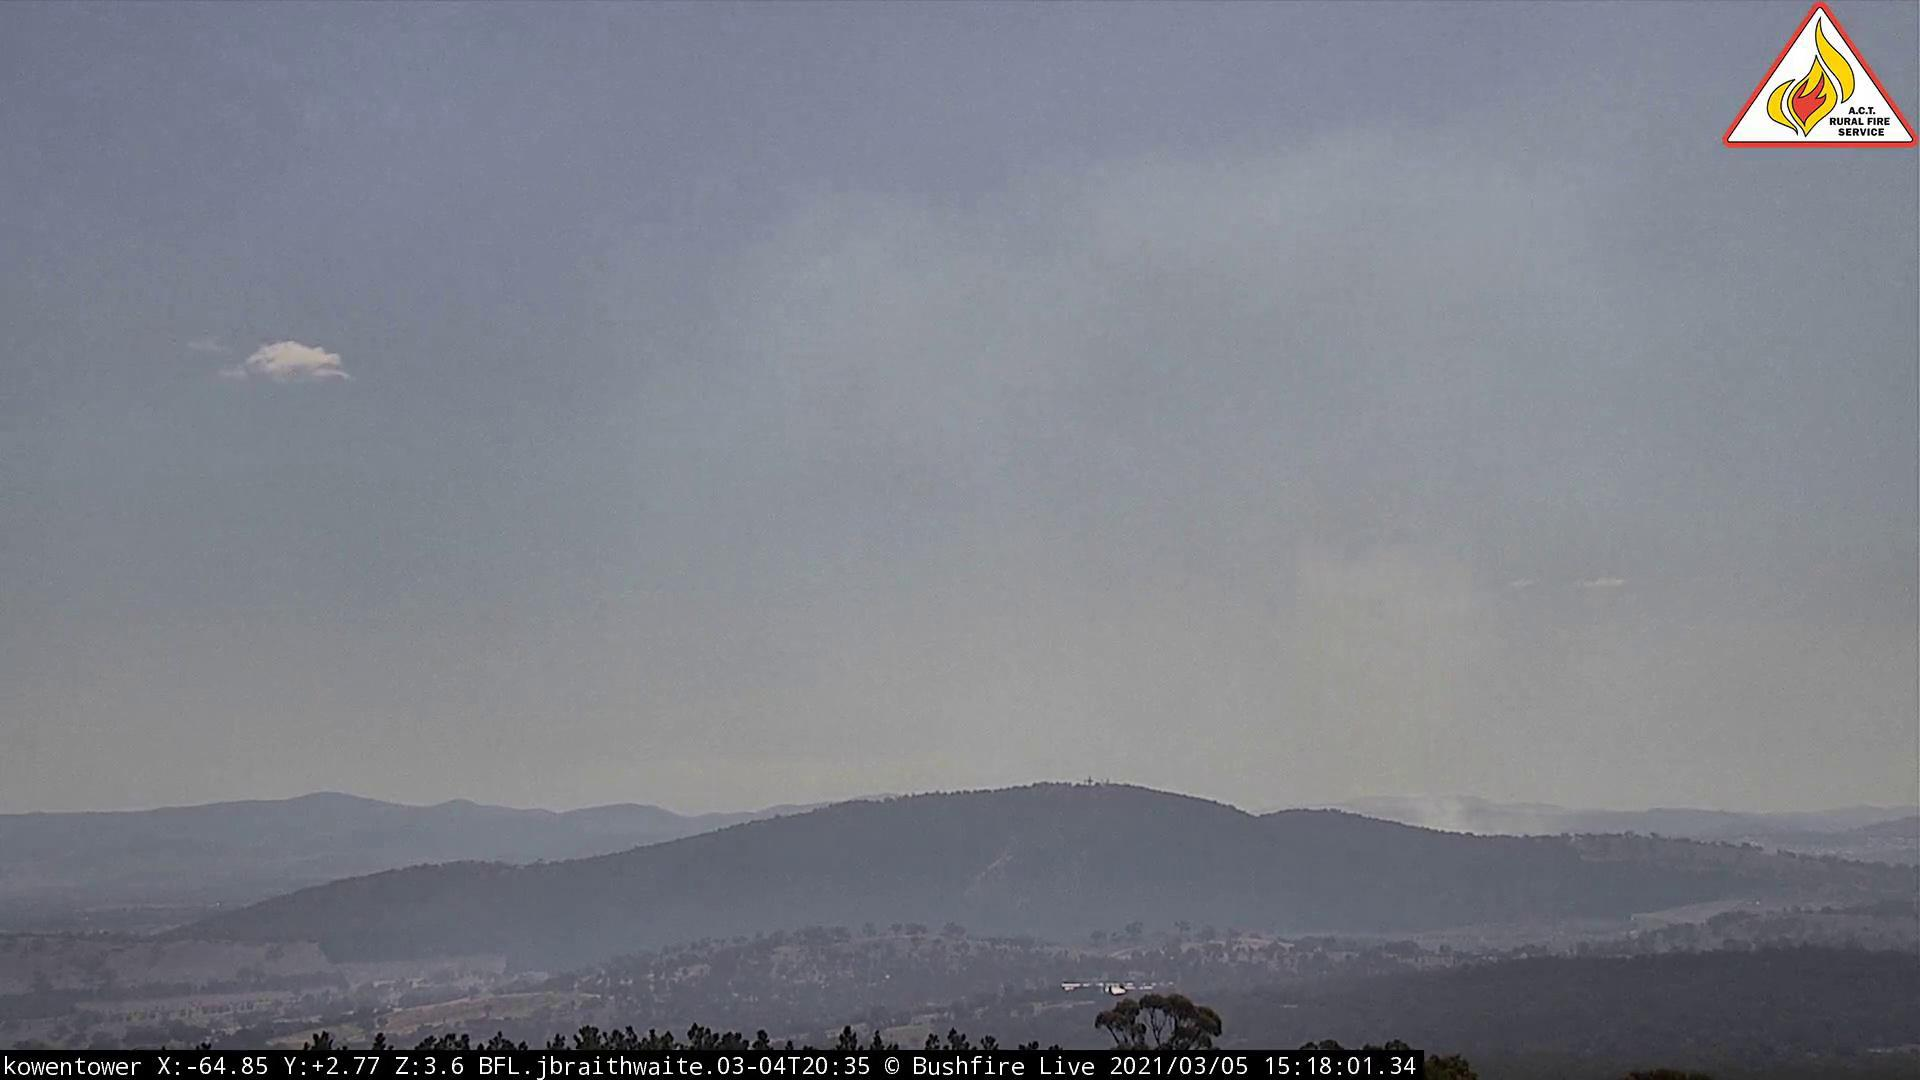instance_salient_object: (1017, 335, 1619, 852)
